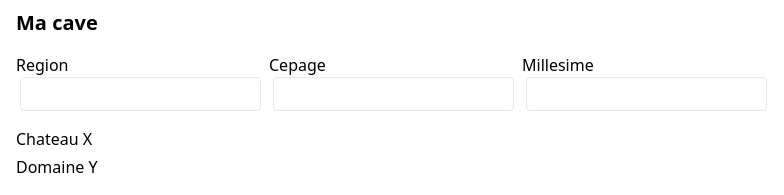
it: filters the cellar list by region
expect the link "Chateau X" is shown: met, box top-left (16, 128), bottom-right (92, 150)
expect the link "Domaine Y" is shown: met, box top-left (16, 156), bottom-right (98, 178)
Type "Bordeaux" into the field labelled "Region". click: (140, 94)
box: top-left (20, 77), bottom-right (261, 111)
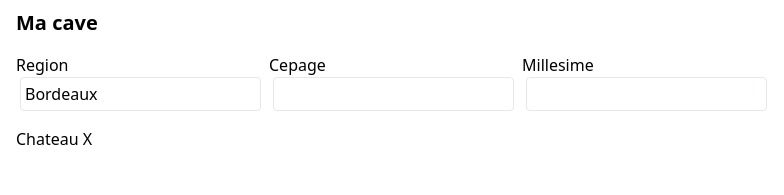
expect the link "Chateau X" is shown: met, box top-left (16, 128), bottom-right (92, 150)
expect the link "Domaine Y" is gone: met
